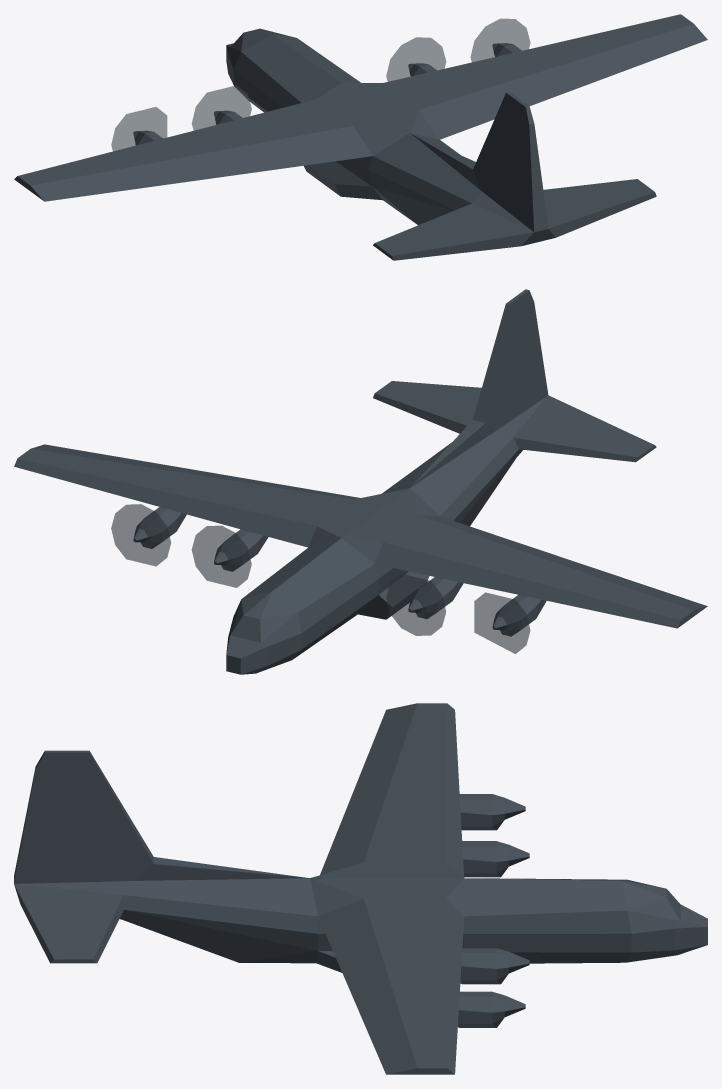
The model's file is Transport-C130.glb.
The picture shows the model from 3 angles, top to bottom: view 1: azimuth 30°, elevation 25°; view 2: azimuth 150°, elevation 25°; view 3: azimuth 270°, elevation 25°; orthographic projection. The views are drawn at different scales.
Bounding box in the file's own units: 36.34 × 9.82 × 29.2.
